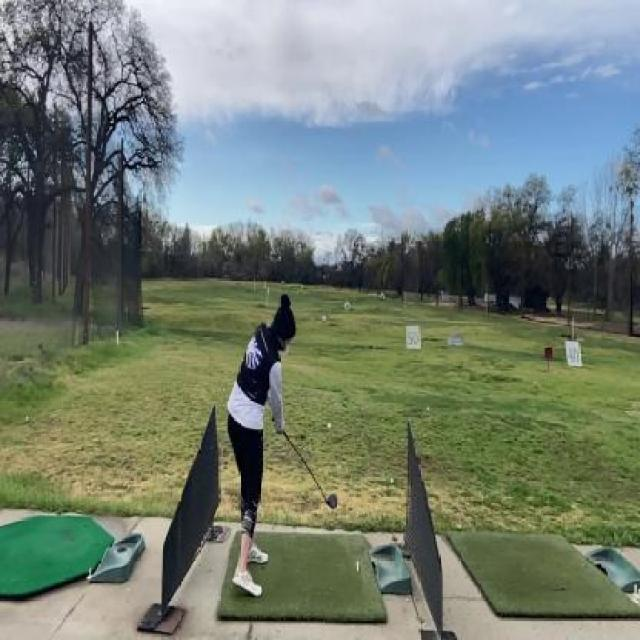club head: (322, 489, 340, 511)
